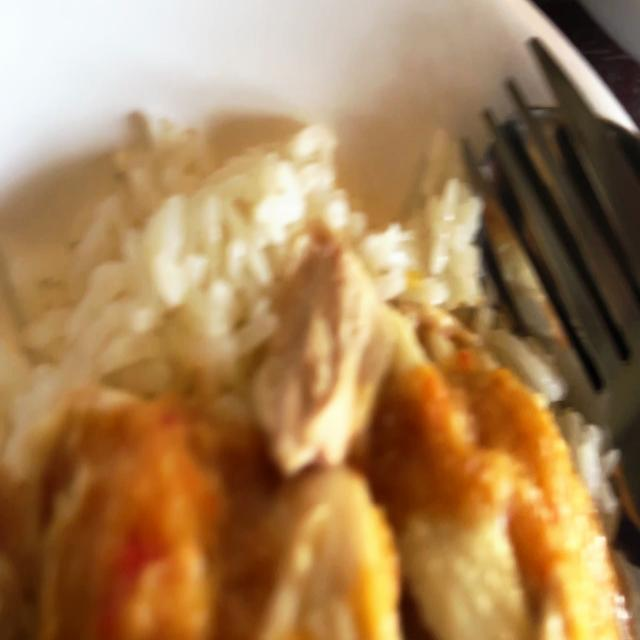boiled_chicken: (4, 250, 612, 640)
chicken_rice: (7, 121, 640, 640)
